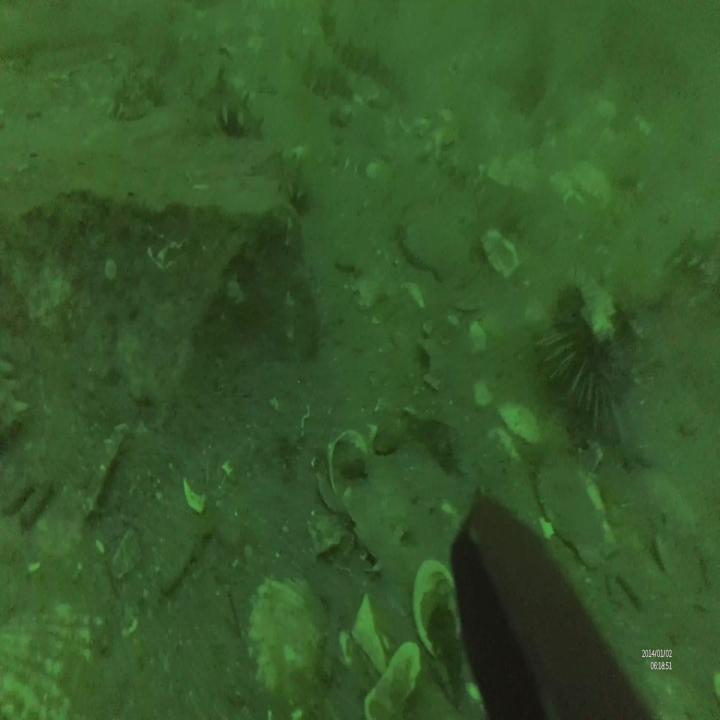echinus: (539, 278, 648, 442)
holothurian: (200, 76, 266, 139), (250, 155, 314, 218), (333, 28, 397, 90), (299, 55, 357, 104), (23, 473, 60, 533), (2, 355, 25, 439), (111, 80, 151, 123), (1, 472, 35, 508)
scallop: (248, 573, 322, 695), (498, 397, 547, 449)
